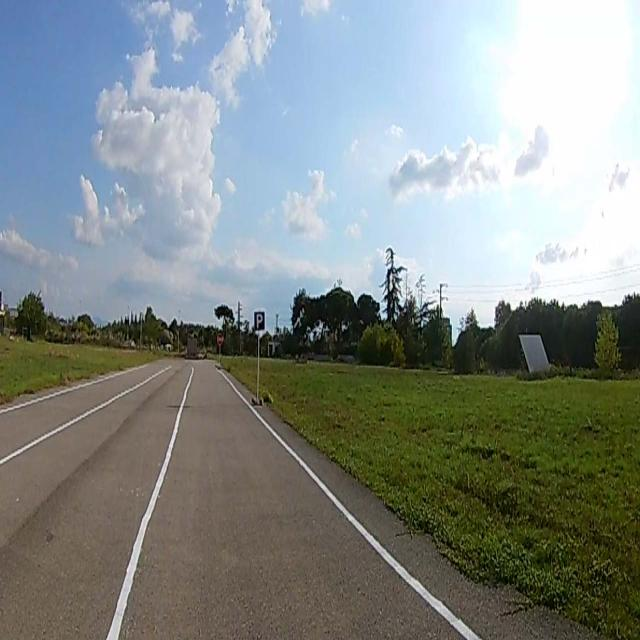park: (254, 312, 264, 329)
